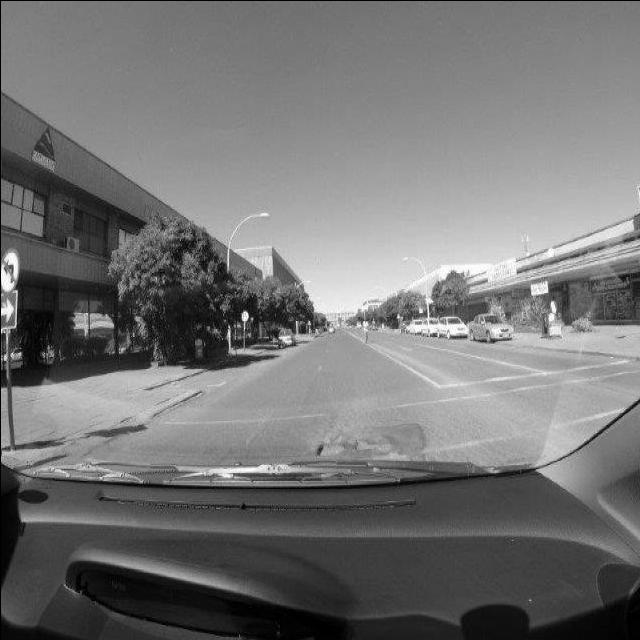lubang: (311, 422, 389, 458)
